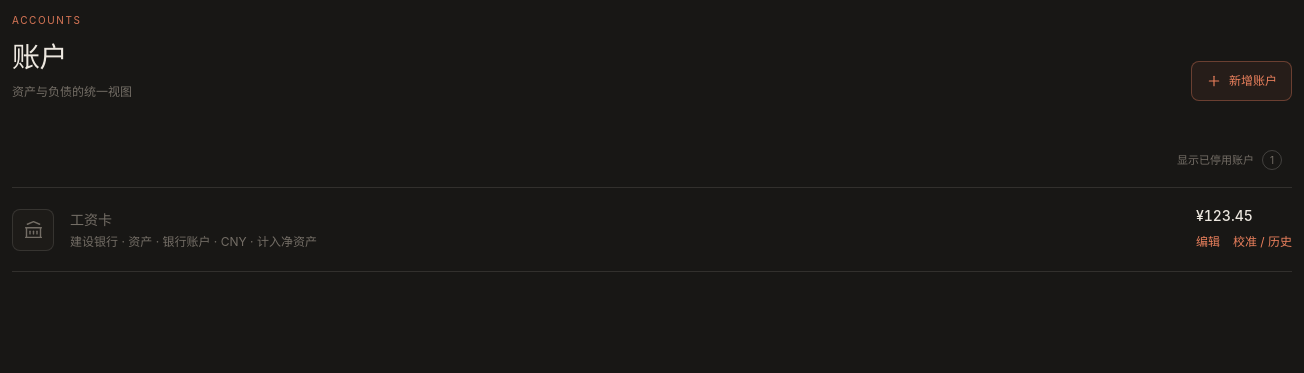
Scenario: account management UI › shows active accounts by default and reveals inactive real rows client-side
This screenshot has width=1304, height=373.
Expected: the text "工资卡" is shown, [70,208,112,230]
Expected: the text "旧账户" is not shown
Step 1. Click the button "显示已停用账户 1" → (1230, 160), box [1167,143,1292,177]
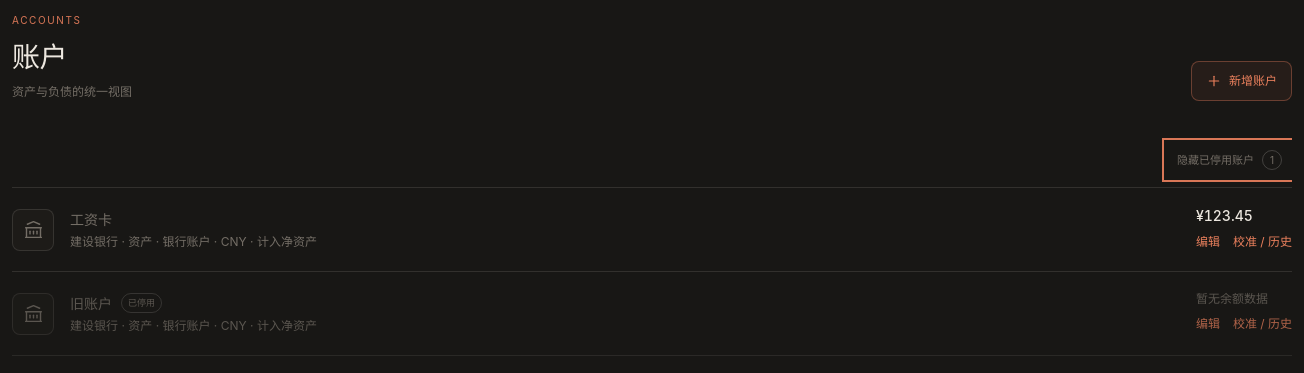
Now the text "旧账户" is shown, box [70,292,112,314]
Now the text "暂无余额数据" is shown, box [1196,291,1268,306]
Now the link with aria-label "校准旧账户余额" is shown, box [1233,316,1292,331]
